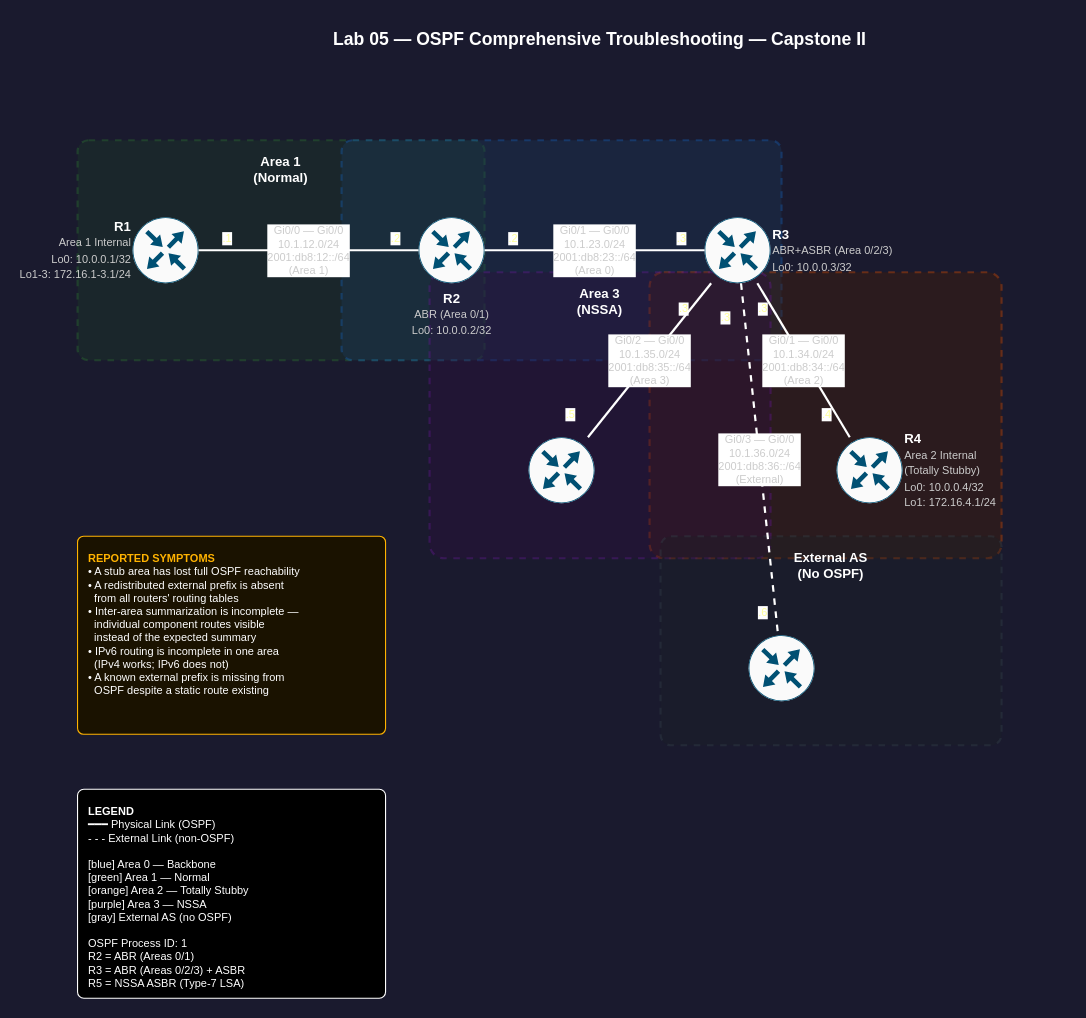
Image size: 1086x1018. Some labels were removed from this diagram. Here are the shapes that lost their labels. From the top down, the box of each, then its label:
(340, 139, 782, 361): Area 0 (Backbone)
(648, 271, 1002, 559): Area 2 (Totally Stubby)
(527, 436, 595, 503): R5 Area 3 NSSA ASBR Lo0: 10.0.0.5/32 Lo1: 172.16.5.1/24 Lo2: 192.168.55.1/24
(747, 634, 815, 701): R6 External AS (no OSPF) Lo0: 10.0.0.6/32 Lo1: 192.168.66.1/24
